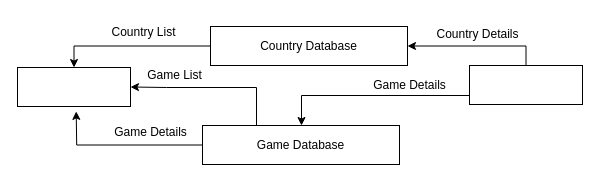
The diagram is 600 pixels wide and 182 high, and some of its shapes have lost their labels. The centre of each missing label's shape, as x and y in pixels:
Admin: the point at 525,84
User: the point at 73,86
